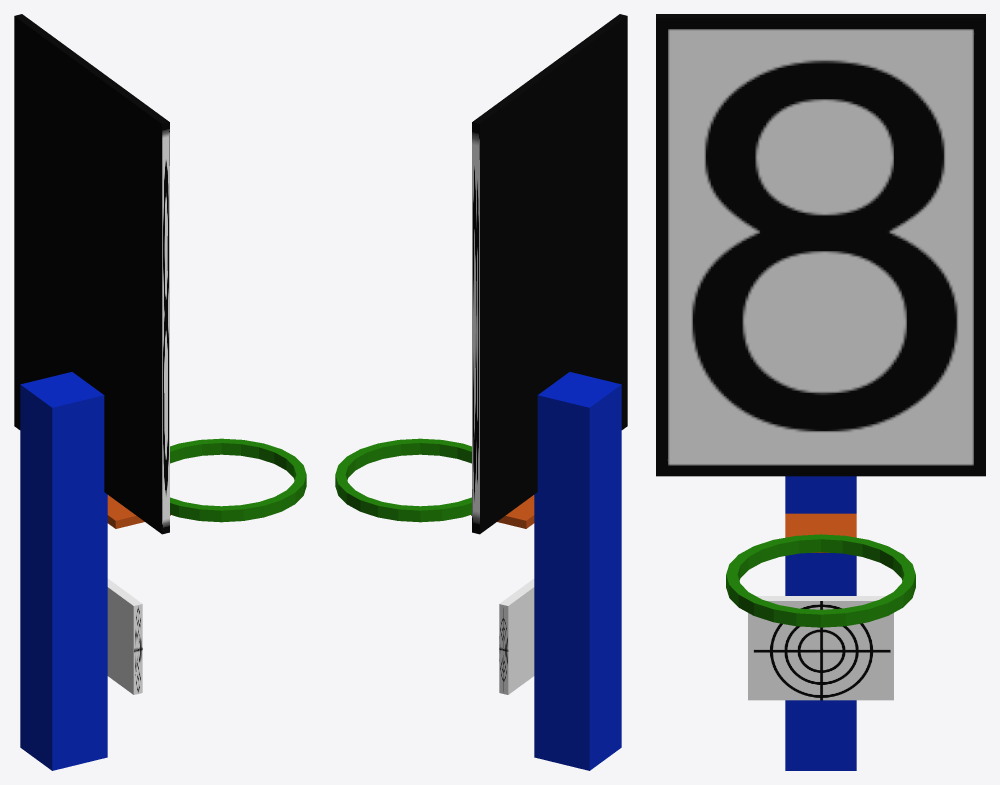
File: sick_robot_day_2014_target_station_complete_8.dae
3 renders of one model, left to right at view 1: azimuth 30°, elevation 25°; view 2: azimuth 150°, elevation 25°; view 3: azimuth 270°, elevation 25°, orthographic. The views are drawn at different scales.
Parts seen in each view (by area): view 1: Cube, Cube_003, Cylinder, Cube_001, Cube_004; view 2: Cube, Cube_003, Cylinder, Cube_001, Cube_004; view 3: Cube, Cube_001, Cube_003, Cylinder, Cube_004.
Part boxes in pixels (x1,y1,x2,y2): Cube: (14, 14, 169, 534); Cube_003: (20, 372, 107, 770); Cylinder: (170, 438, 306, 522); Cube_001: (107, 578, 142, 694); Cube_004: (107, 495, 170, 528); Cube: (472, 14, 627, 534); Cube_003: (534, 372, 621, 770); Cylinder: (335, 438, 471, 522); Cube_001: (499, 578, 534, 694); Cube_004: (471, 495, 534, 528); Cube: (656, 14, 985, 476); Cube_001: (748, 596, 893, 700); Cube_003: (785, 476, 856, 770); Cylinder: (726, 534, 915, 627); Cube_004: (785, 513, 856, 552).
Bounding box in the file's own units: 0.5801 × 0.5736 × 1.45.
5 materials, 2 textured.
